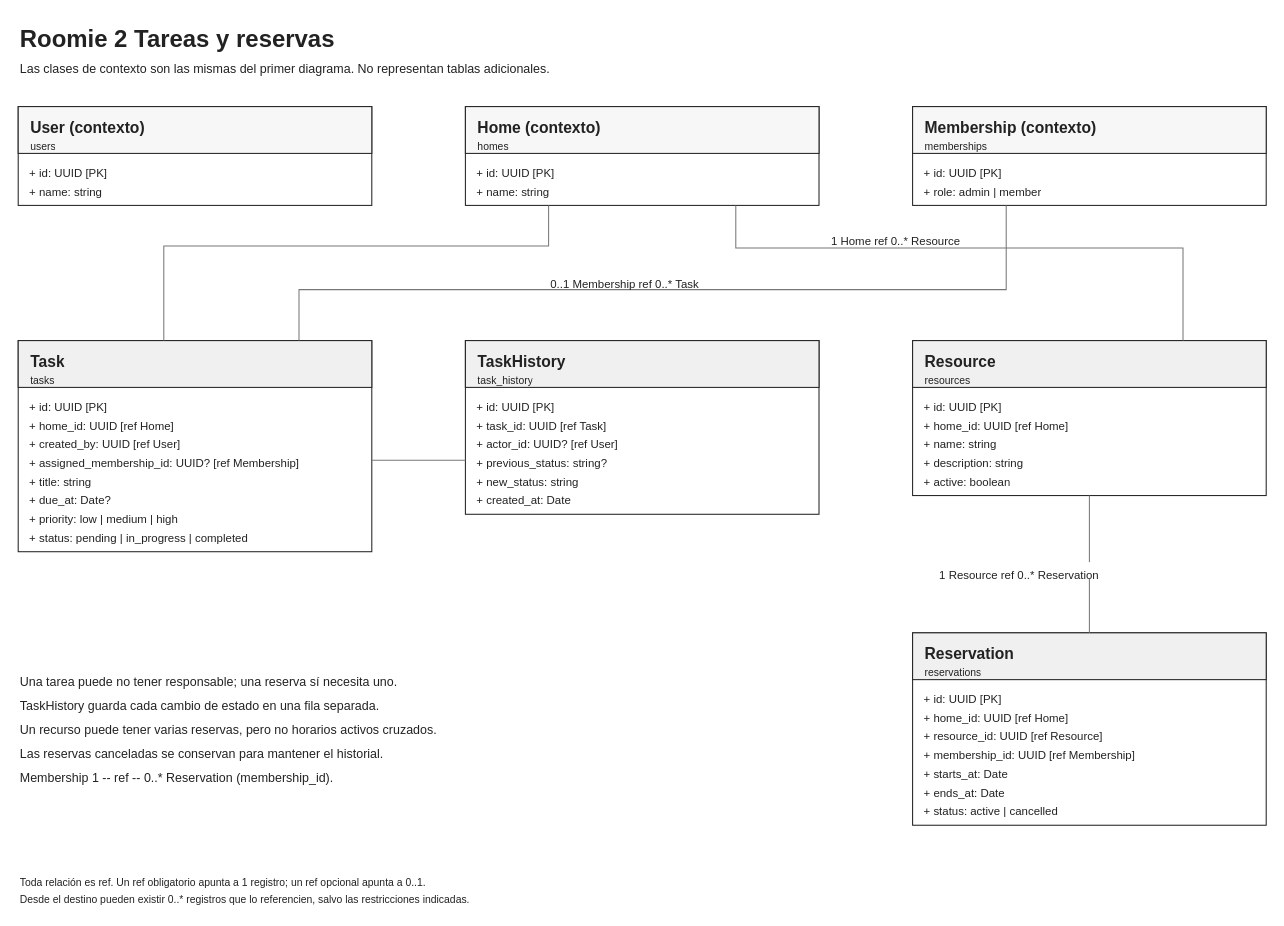
This 1284x926 diagram has some shape labels left out. Each missing label, with the centre of its shape:
"1 Home ref 0..* Task" goes at pixel 265 235.
"1 ref 0..*" goes at pixel 408 448.
